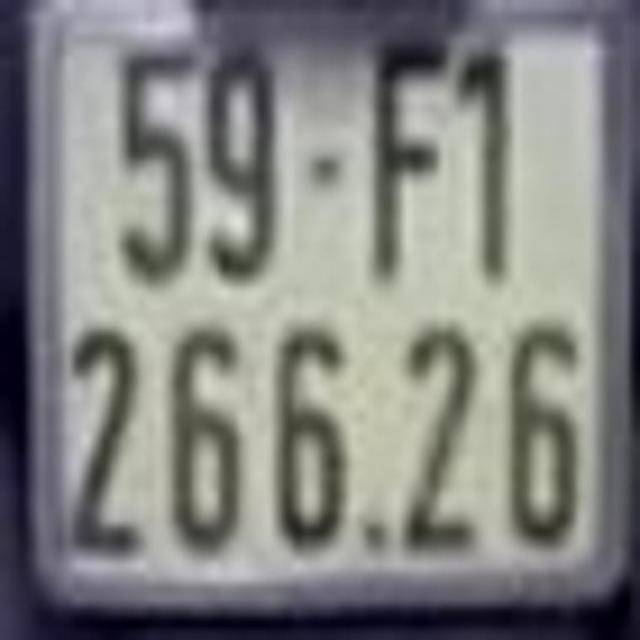1: (456, 50, 512, 285)
2: (404, 322, 480, 556), (70, 326, 144, 558)
5: (123, 52, 197, 284)
6: (276, 326, 351, 548), (511, 326, 584, 548), (170, 324, 240, 554)
9: (206, 47, 272, 280)
F: (373, 39, 448, 282)
